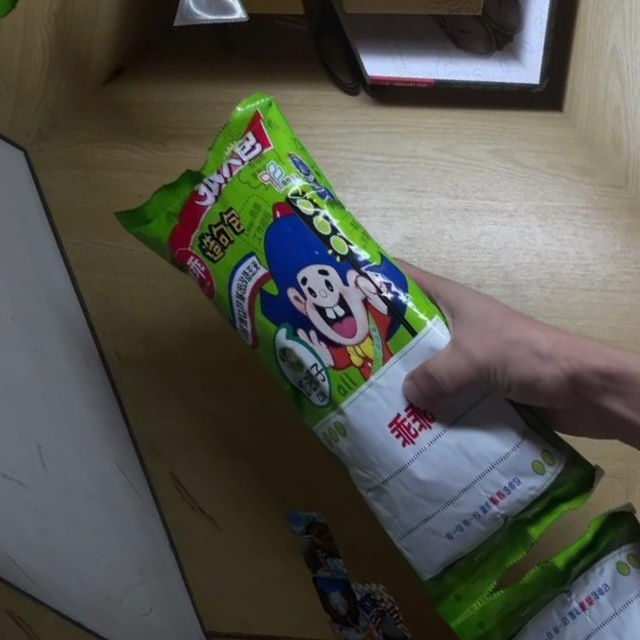Good-Luck: (105, 75, 619, 628)
